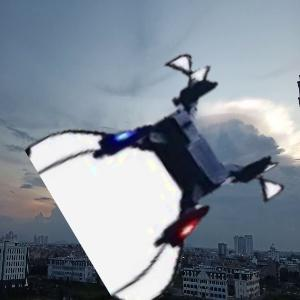drone: (57, 65, 276, 284)
